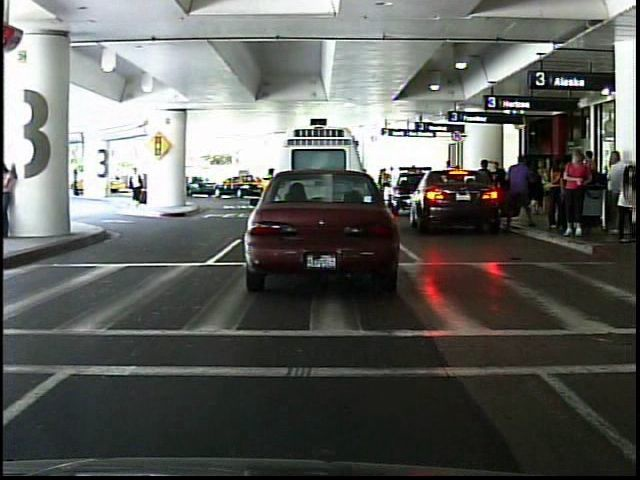person: (560, 146, 595, 243), (123, 161, 153, 209), (69, 163, 85, 201)
